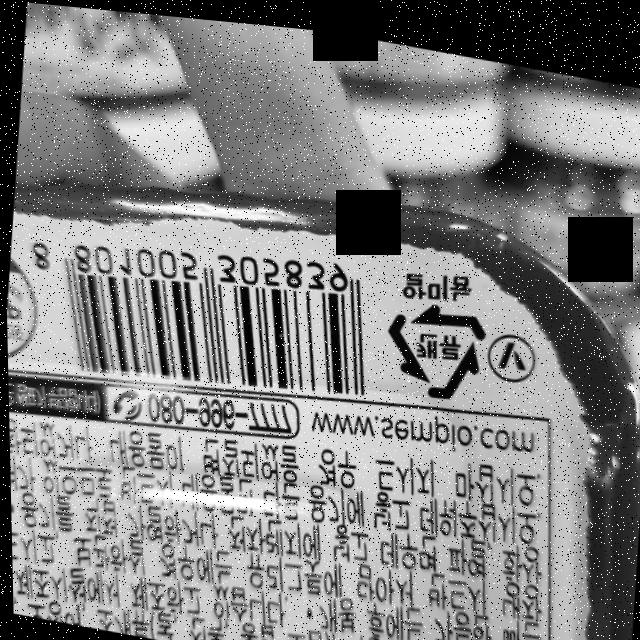Can: (376, 286, 490, 403)
